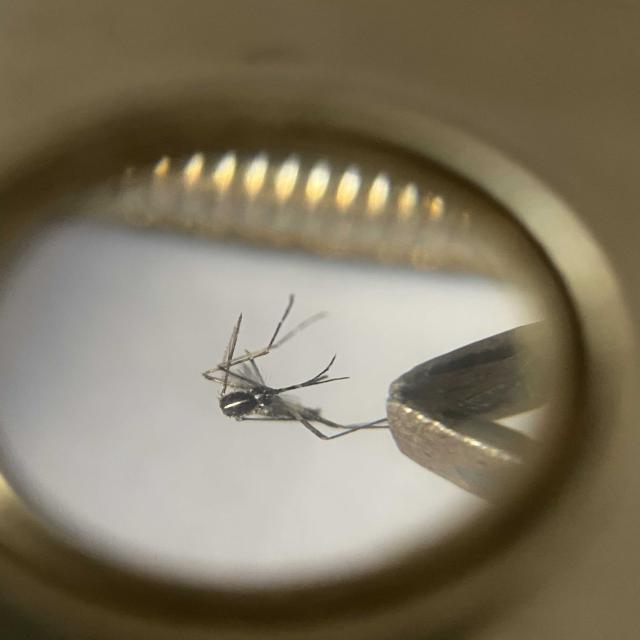albopictus: (184, 288, 414, 439)
